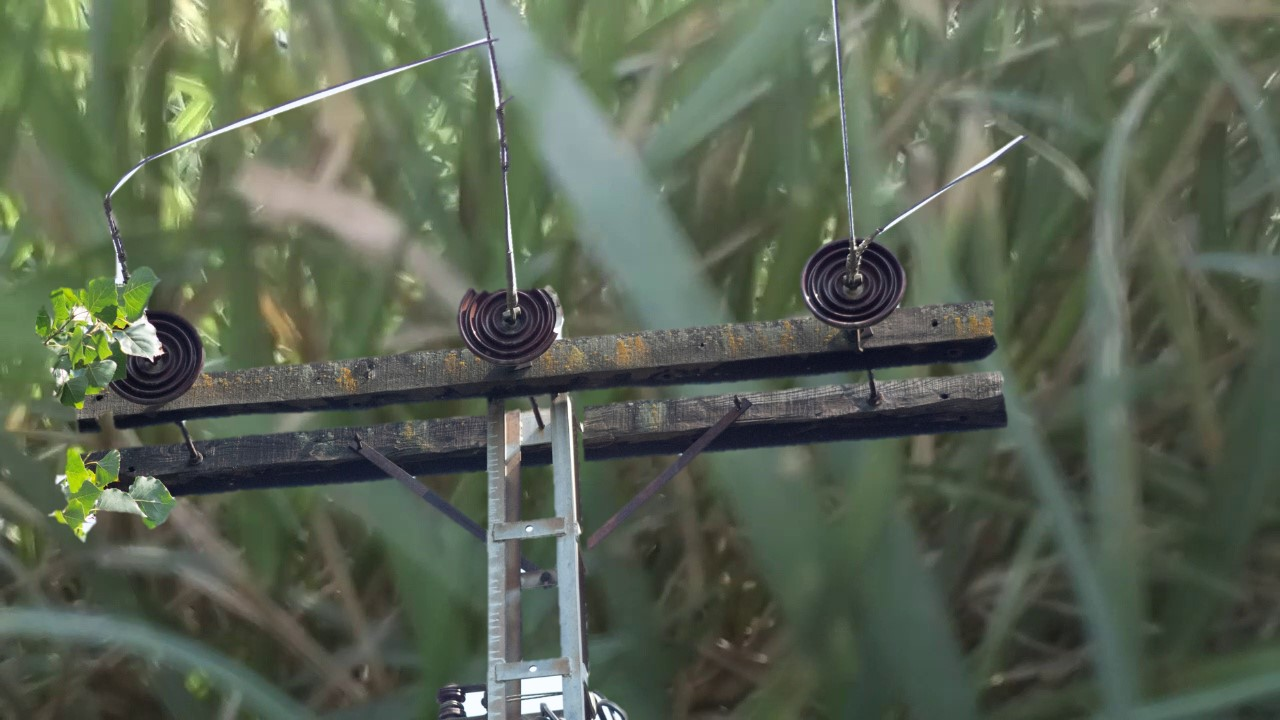defect_disc: (454, 276, 572, 364)
insulator_disc: (799, 235, 910, 334), (140, 304, 211, 403)
